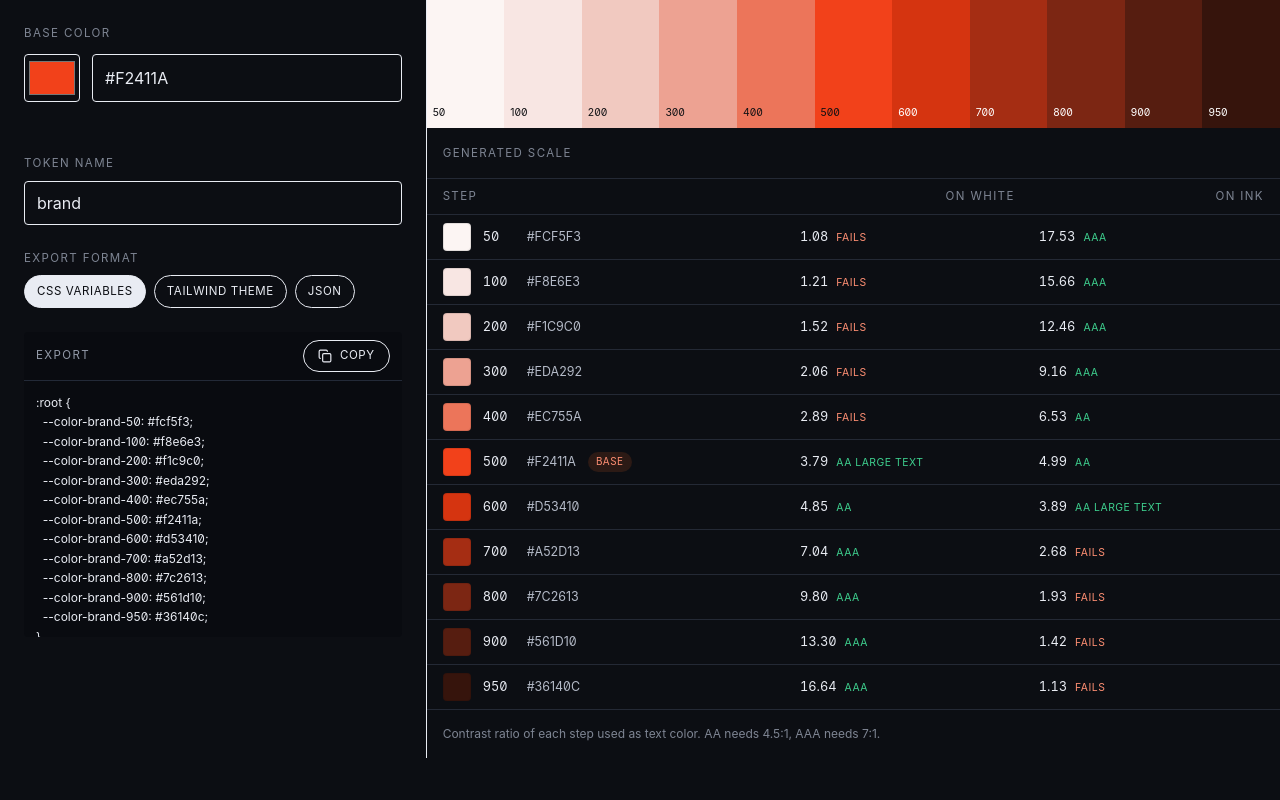
it: TokenTool › exports the chosen token name
Replace the text in the field with id "token-name" with "Sunrise" at (213, 203), box [24,181,402,225]
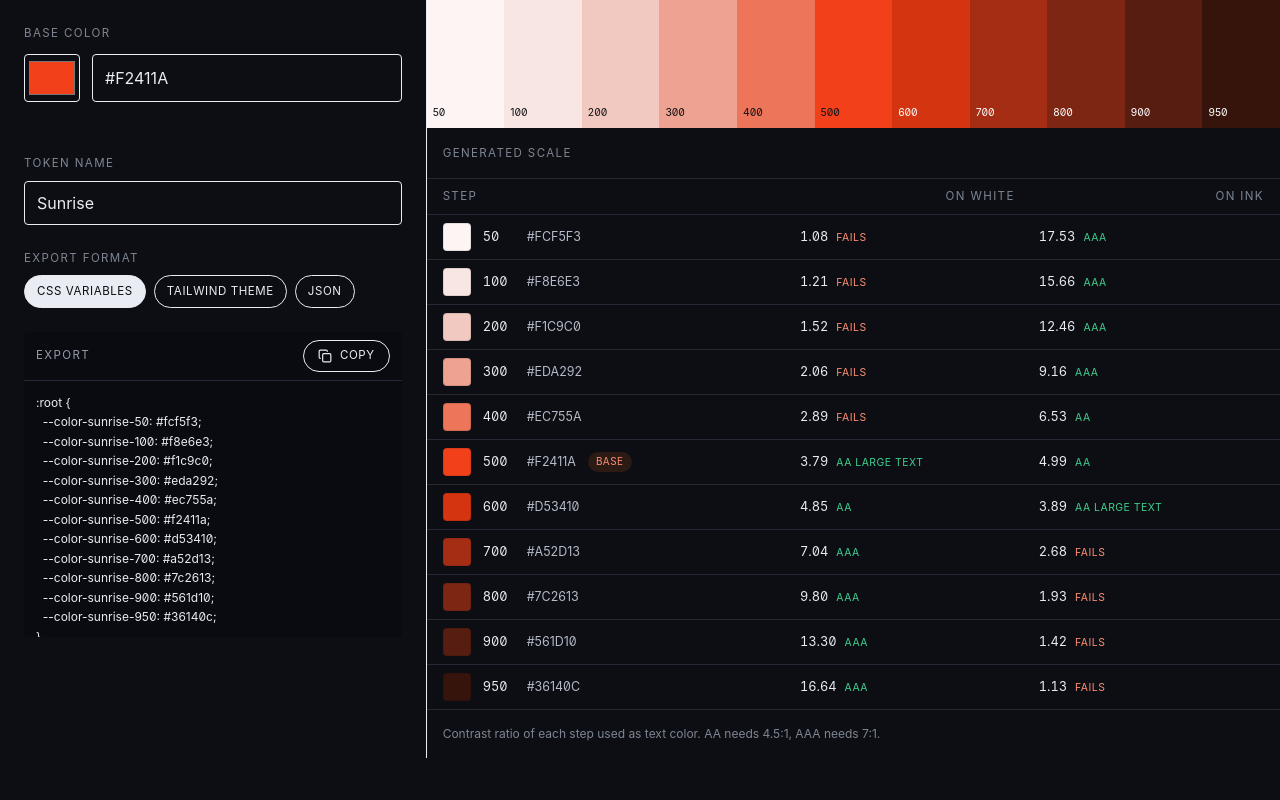
Check: the text named "Export" shows "--color-sunrise-500", box [36,395,218,644]
